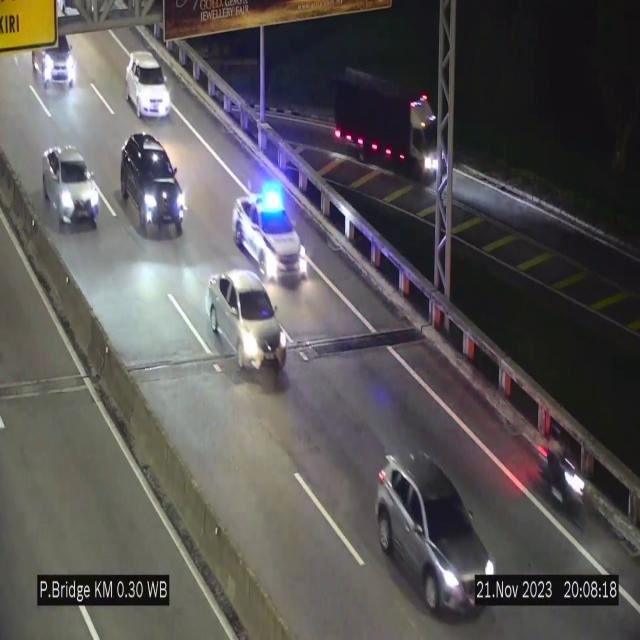Car: (376, 450, 494, 616), (233, 168, 307, 282), (211, 270, 287, 371), (120, 132, 184, 238), (43, 145, 100, 228), (28, 22, 84, 96), (126, 51, 172, 117)
Motorcycle: (539, 422, 584, 522)
Truck: (330, 62, 450, 191)
